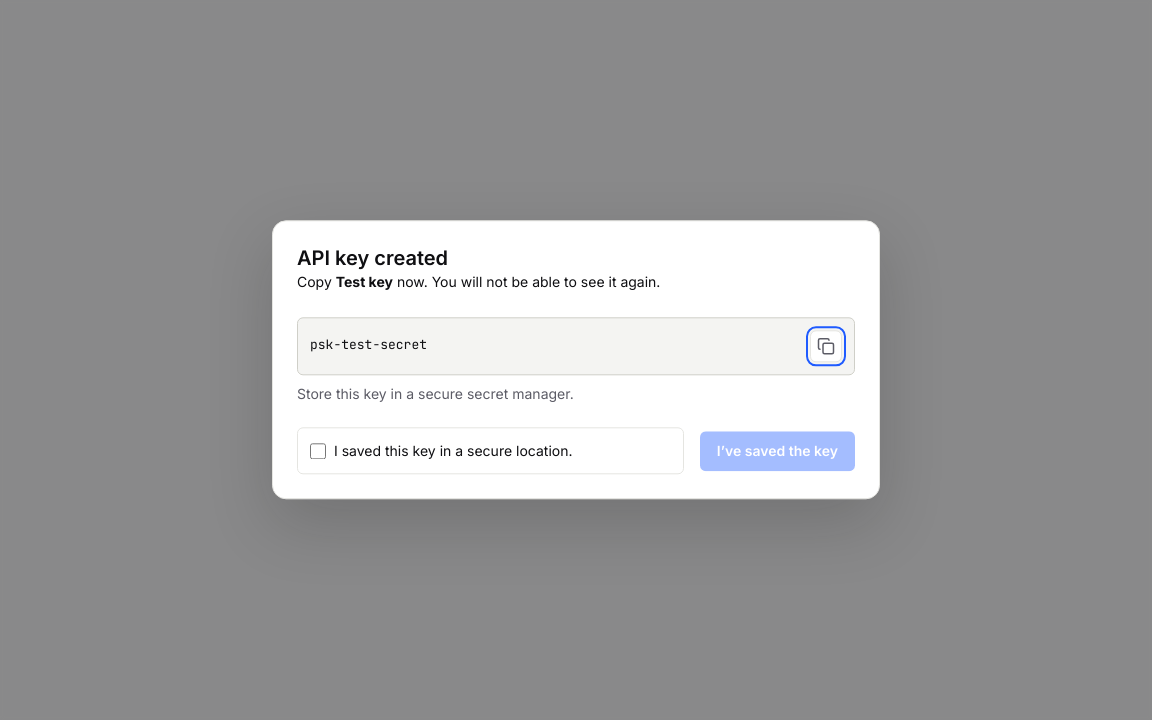
SecretCreatedDialog › requires secure-storage acknowledgement independently of clipboard success
Later steps or results of the test are not shown.
Expected: the button "I’ve saved the key" is disabled, x1=700 y1=431 x2=855 y2=471
Click the button named "Copy API key" at (826, 346), box x1=810 y1=330 x2=842 y2=362
Expected: the button "I’ve saved the key" is disabled, x1=700 y1=431 x2=855 y2=471
Click the checkbox labelled "I saved this key in a secure location." at (318, 451), box x1=310 y1=443 x2=326 y2=459
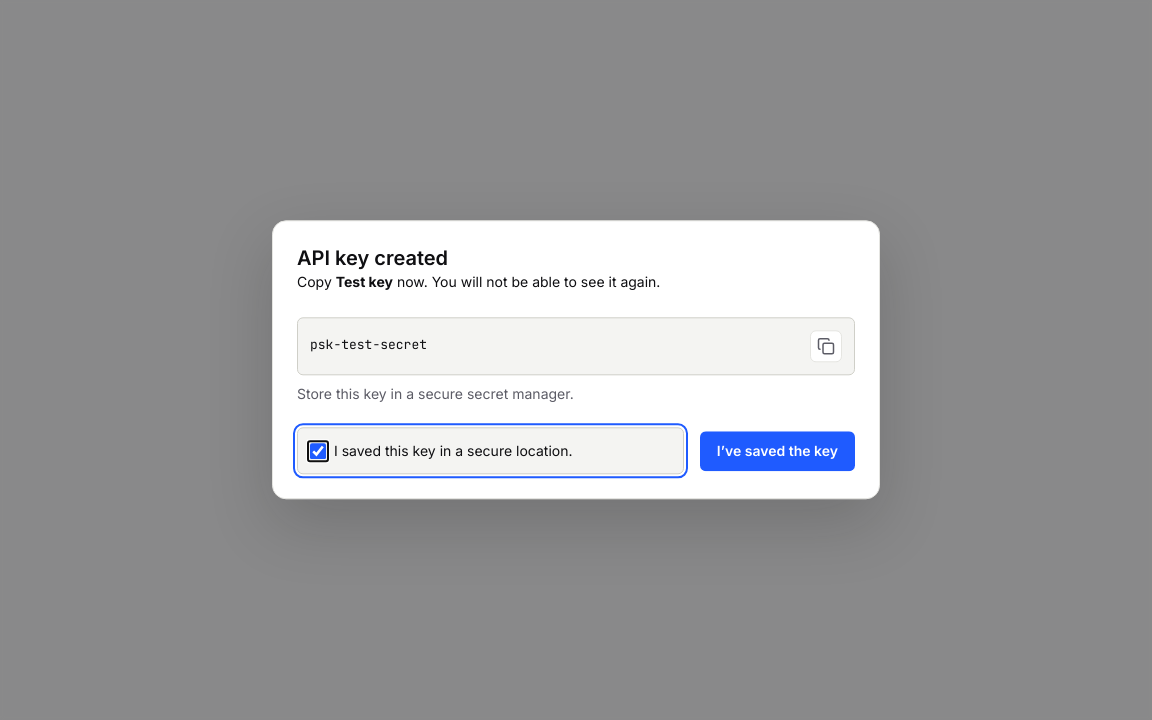
Now the button "I’ve saved the key" is enabled, box x1=700 y1=431 x2=855 y2=471
